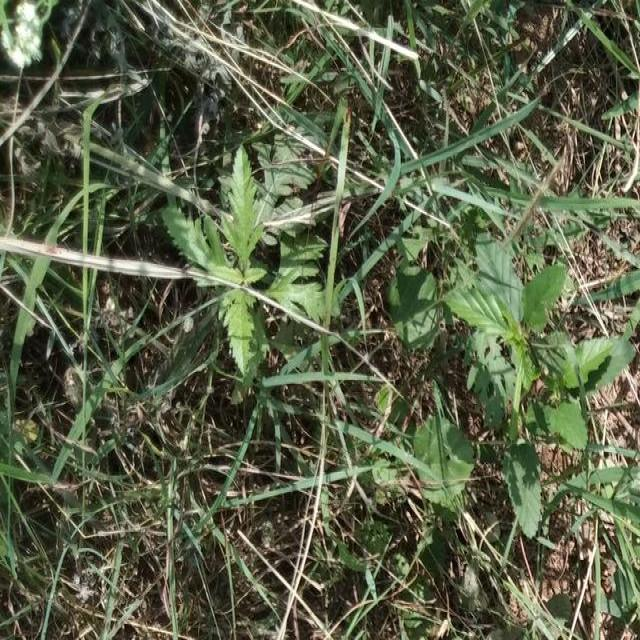weed: (459, 247, 611, 514), (161, 162, 332, 394)
